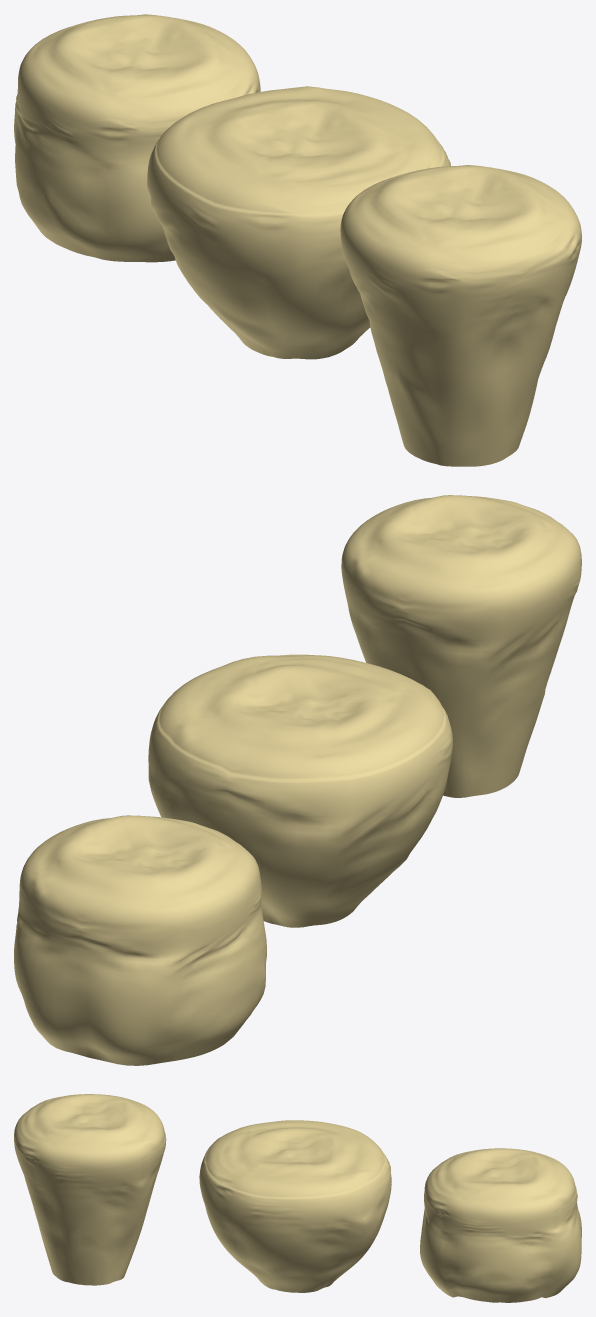
Rendered from 3+sky+lanterns+.fbx.
3 views of the same model, one above another, from view 1: azimuth 30°, elevation 25°; view 2: azimuth 150°, elevation 25°; view 3: azimuth 270°, elevation 25° (orthographic). The views are drawn at different scales.
Visible parts, largest first — view 1: TALL LANTERN, FAT LANTERN, SHORT FAT LANTERN; view 2: FAT LANTERN, SHORT FAT LANTERN, TALL LANTERN; view 3: FAT LANTERN, TALL LANTERN, SHORT FAT LANTERN.
Boxes of the visible parts, bbox=[...] form: TALL LANTERN: bbox=[340, 165, 581, 466]; FAT LANTERN: bbox=[147, 86, 450, 359]; SHORT FAT LANTERN: bbox=[14, 14, 260, 262]; FAT LANTERN: bbox=[148, 654, 452, 927]; SHORT FAT LANTERN: bbox=[14, 815, 266, 1065]; TALL LANTERN: bbox=[341, 495, 581, 797]; FAT LANTERN: bbox=[199, 1120, 391, 1292]; TALL LANTERN: bbox=[14, 1094, 166, 1285]; SHORT FAT LANTERN: bbox=[420, 1148, 581, 1302].
Bounding box in the file's own units: 342 × 332 × 1026.
